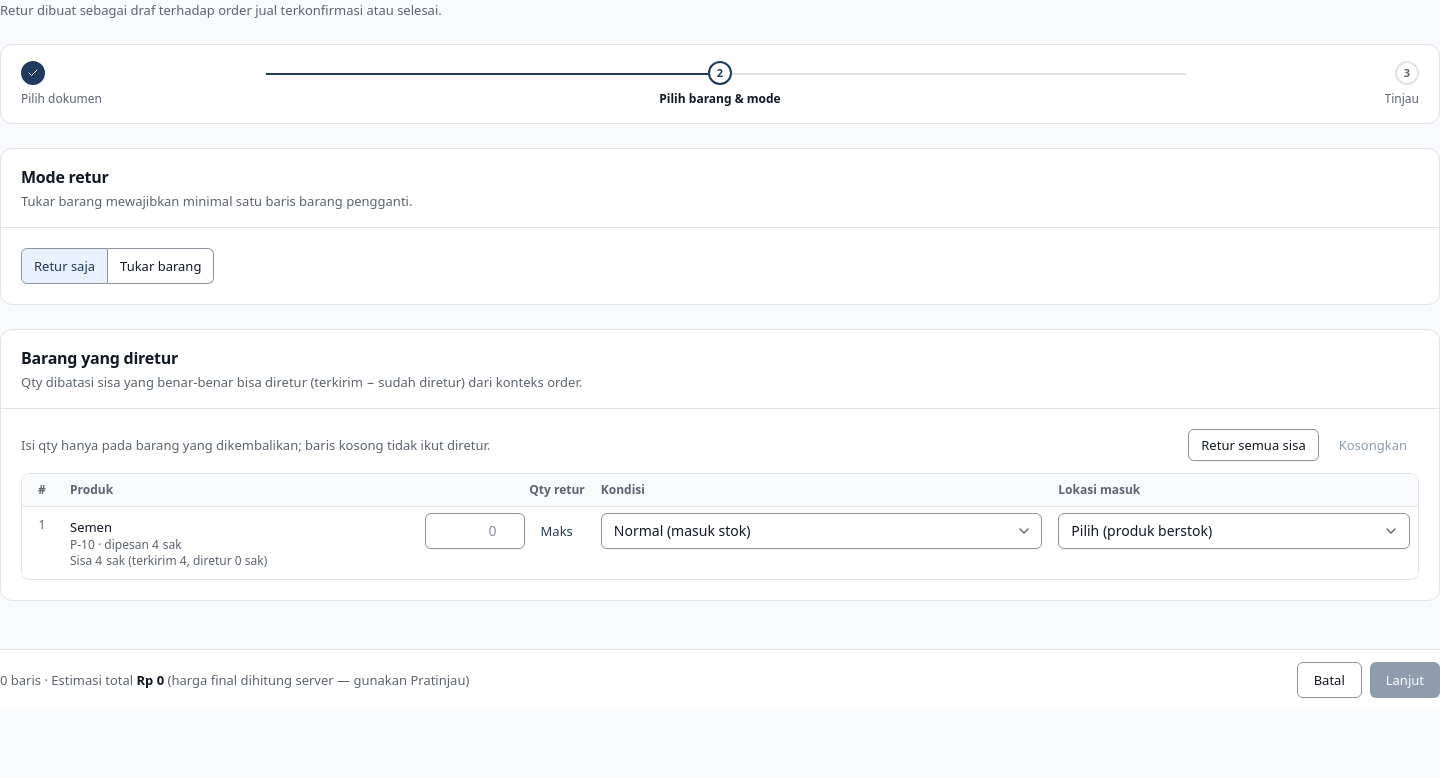
Test: halaman Buat Retur Jual: barang pengganti berhalaman › pemilih pengganti mencari di server per halaman; produk di luar 20 pertama bisa dipilih
Expected: the text "Semen" is shown, [70,518,112,536]
Step 1. Type "1" into the number field named "Qty retur Semen" → (475, 530), box [425,512,524,548]
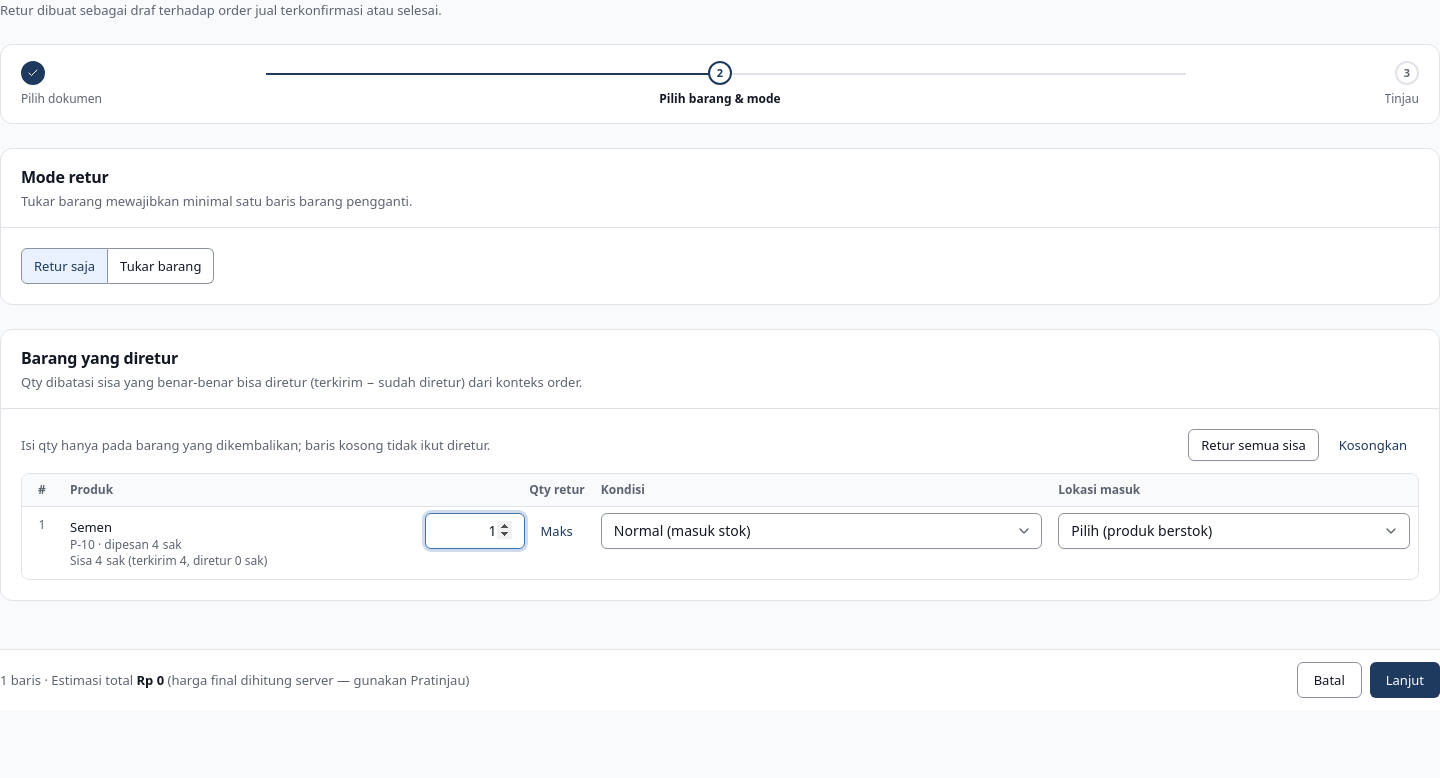
Step 2. Click the radio button labelled "Tukar barang" → (161, 266), box [108,248,214,284]
(page scrolled)
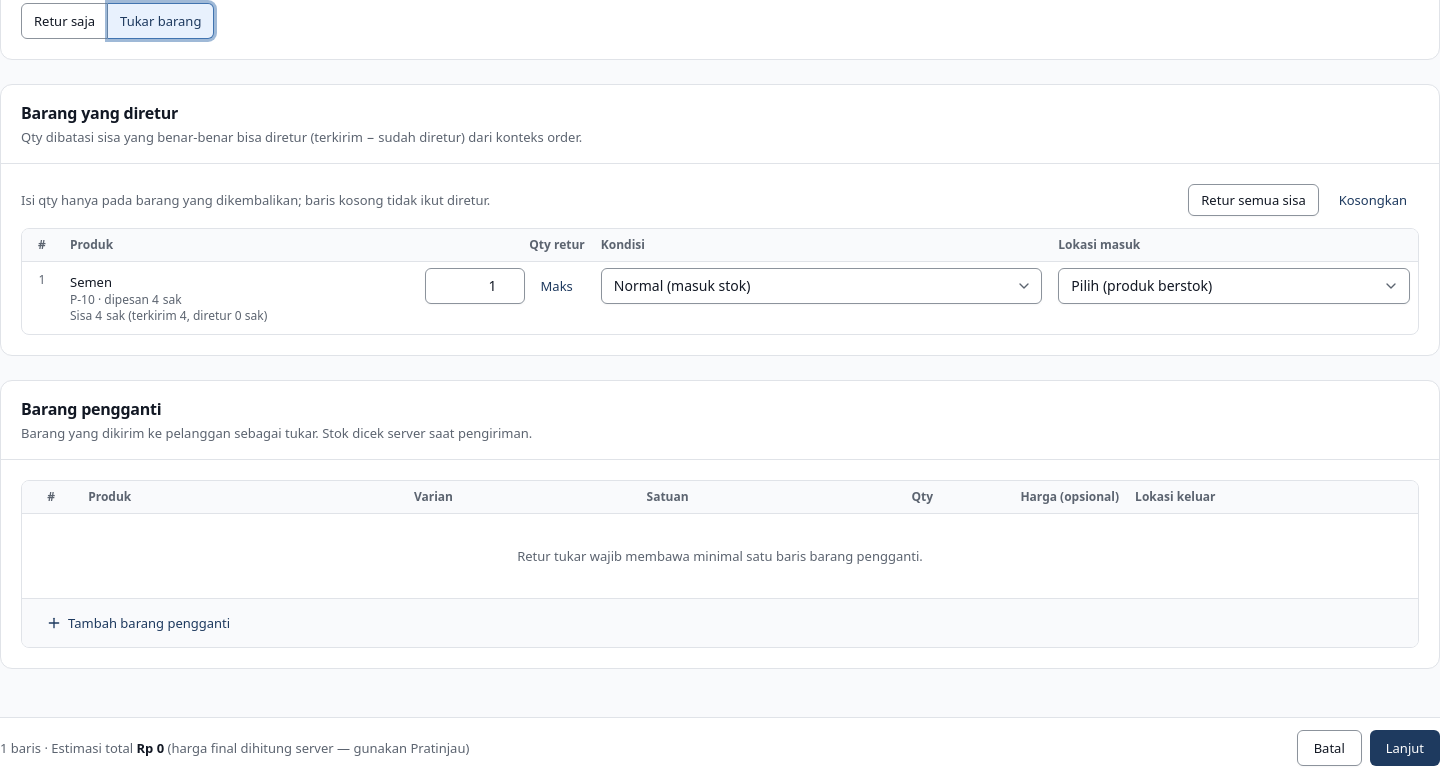
Step 3. Click the button "Tambah barang pengganti" → (138, 622), box [34,606,242,638]
(page scrolled)
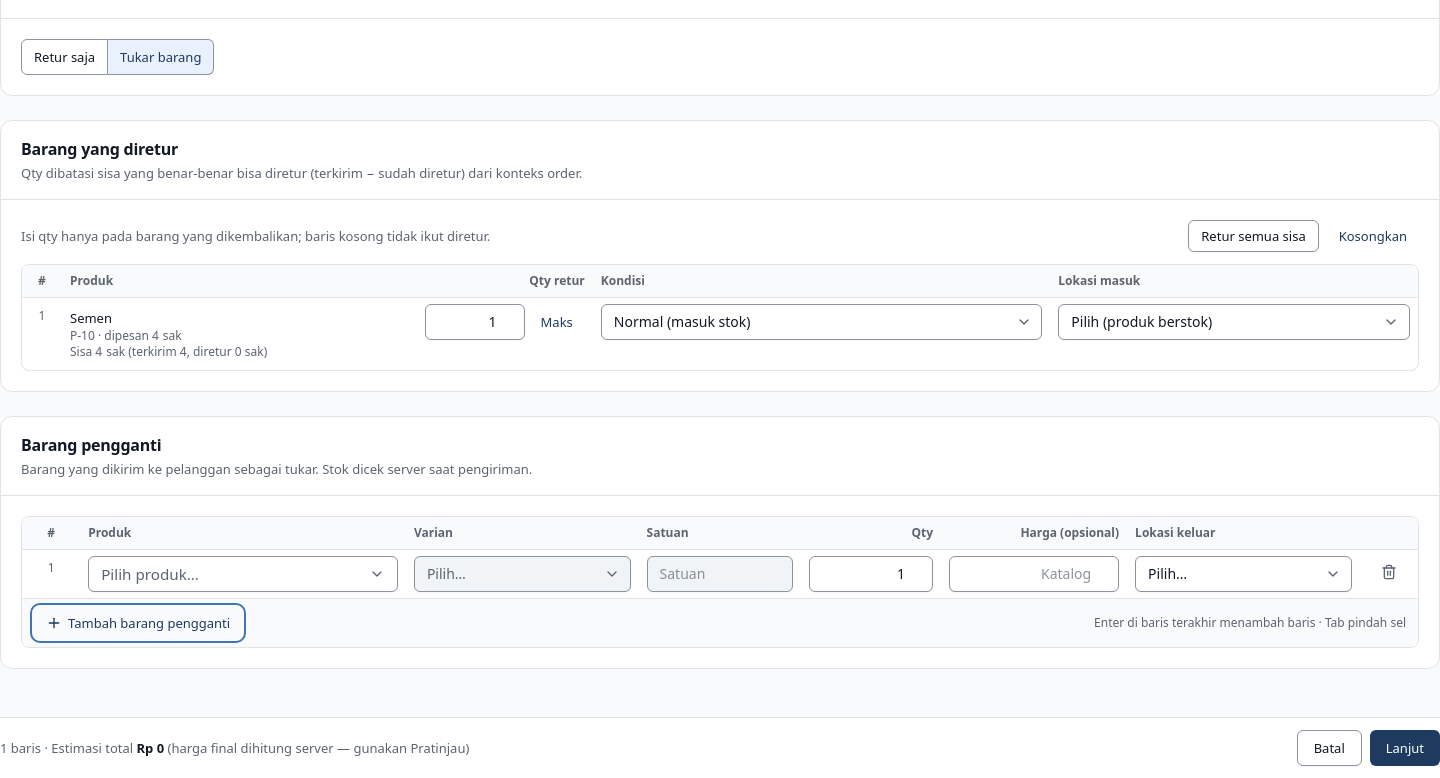
Step 4. Click the button with aria-label "Produk pengganti baris 1" → (150, 574), box [88,556,398,592]
(page scrolled)
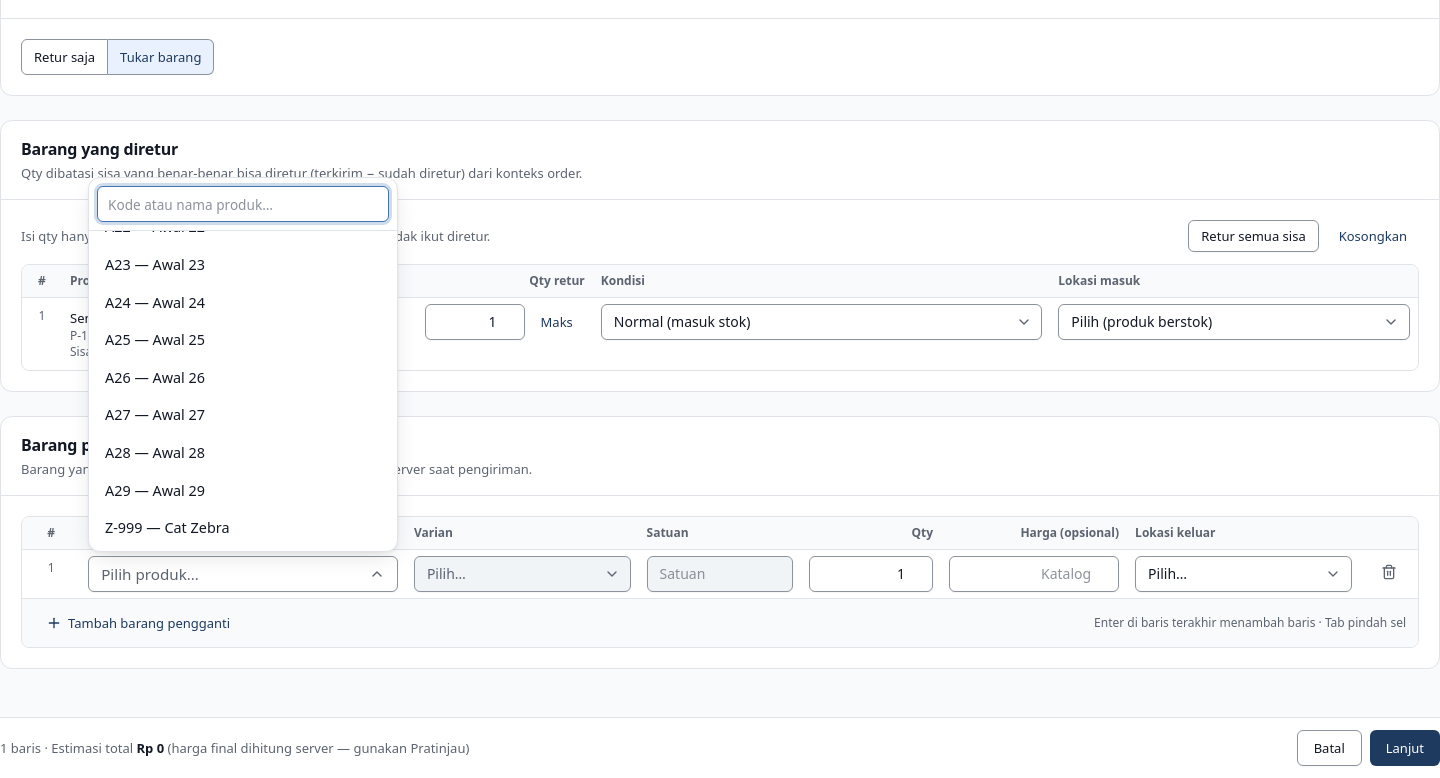
Expected: the text "A29 — Awal 29" is shown, [105,481,205,500]
Step 5. Click the option "Z-999 — Cat Zebra" → (167, 528), box [93,509,393,547]
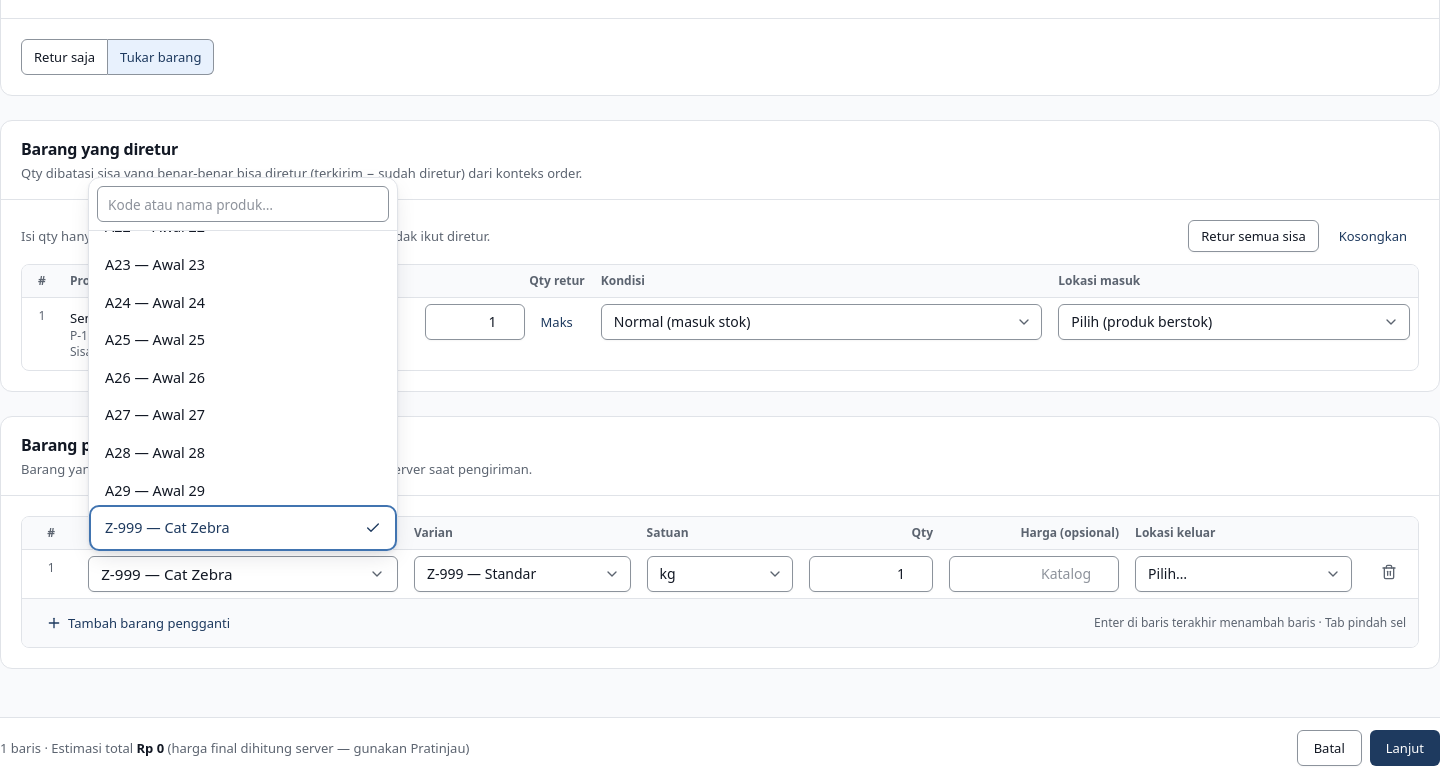
Expected: the button with aria-label "Produk pengganti baris 1" reads "Z-999 — Cat Zebra", [88,556,398,592]
